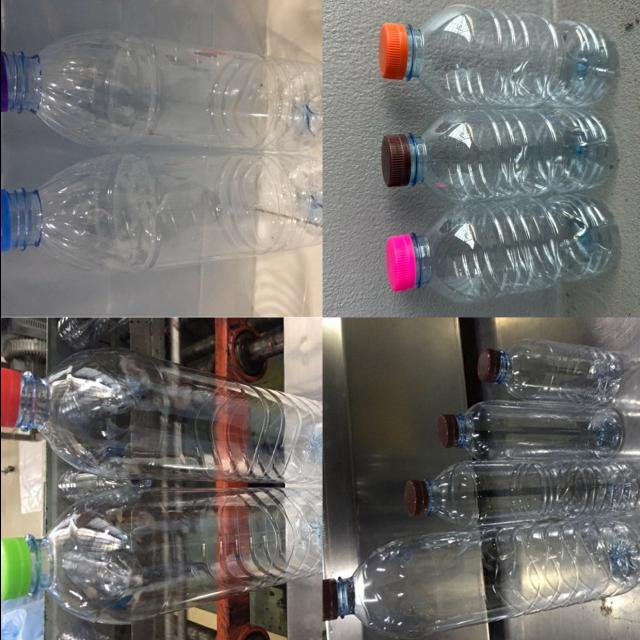plastik: (0, 488, 322, 623), (0, 348, 322, 483), (0, 30, 320, 151), (322, 520, 640, 639), (0, 154, 320, 272), (385, 194, 617, 303), (378, 5, 616, 107), (381, 108, 614, 203), (403, 459, 638, 528), (436, 400, 622, 461), (476, 339, 619, 404)
